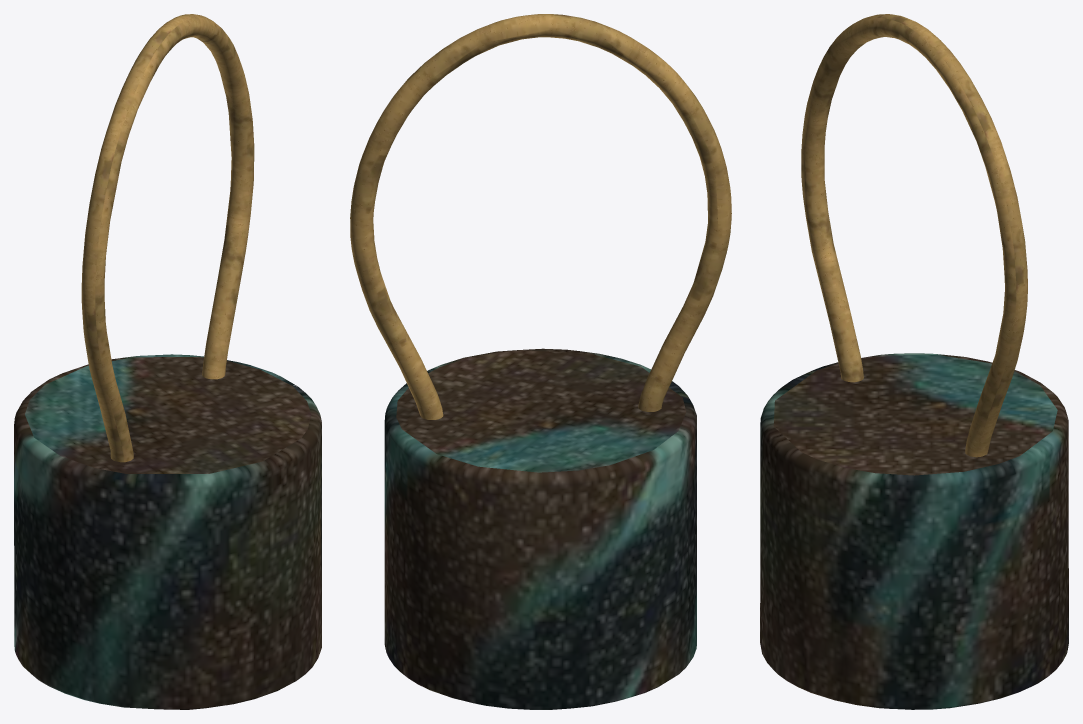
File: Medenka_05_Oblouk_cerna.glb
3 views of the same model, side by side, from view 1: azimuth 30°, elevation 25°; view 2: azimuth 150°, elevation 25°; view 3: azimuth 270°, elevation 25° (orthographic).
Parts seen in each view (by area): view 1: Telo, Oblouk; view 2: Telo, Oblouk; view 3: Telo, Oblouk.
Boxes of the visible parts, x1,y1,x2,y2 form: Telo: [14, 354, 321, 709]; Oblouk: [81, 14, 254, 462]; Telo: [384, 348, 696, 709]; Oblouk: [350, 14, 731, 419]; Telo: [760, 353, 1068, 709]; Oblouk: [801, 14, 1027, 457].
Bounding box in the file's own units: 0.0407 × 0.0889 × 0.04.
2 materials, 2 textured.
